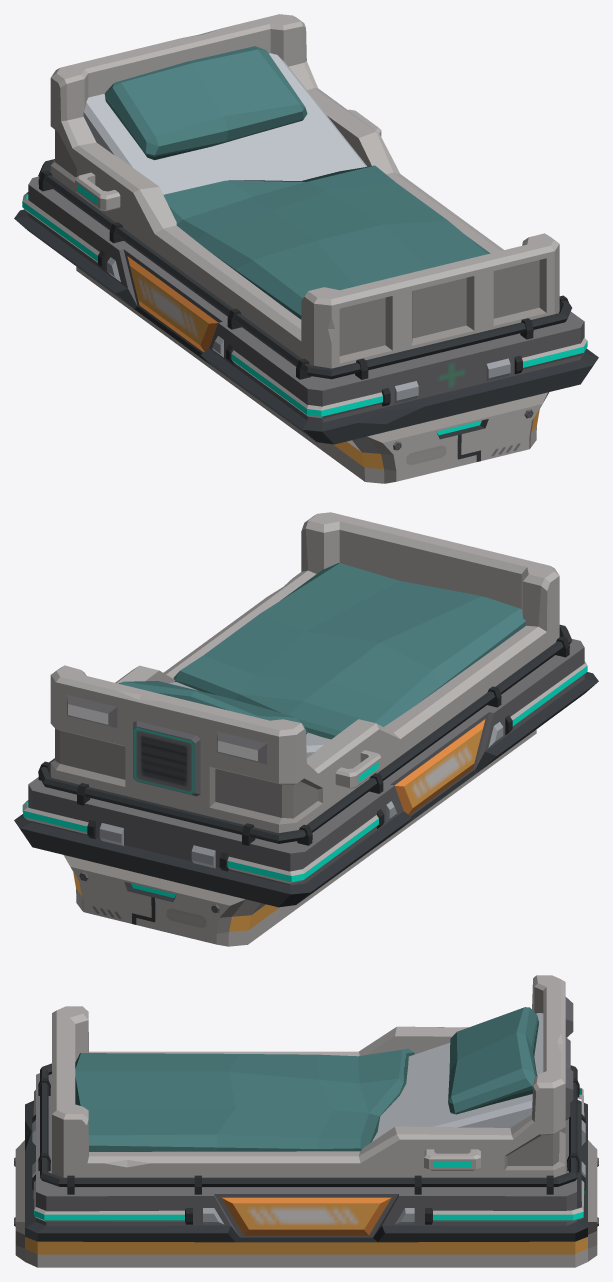
Rendered from SM_Prop_Hospital_Bed_01.fbx.
3 views of the same model, one above another, from view 1: azimuth 30°, elevation 25°; view 2: azimuth 150°, elevation 25°; view 3: azimuth 270°, elevation 25° (orthographic). The views are drawn at different scales.
Visible parts, largest first — view 1: SM_Prop_Hospital_Bed_01; view 2: SM_Prop_Hospital_Bed_01; view 3: SM_Prop_Hospital_Bed_01.
Boxes of the visible parts, x1,y1,x2,y2 form: SM_Prop_Hospital_Bed_01: (14,14,598,483); SM_Prop_Hospital_Bed_01: (14,512,598,946); SM_Prop_Hospital_Bed_01: (14,975,598,1267).
Bounding box in the file's own units: 156 × 108 × 287.
